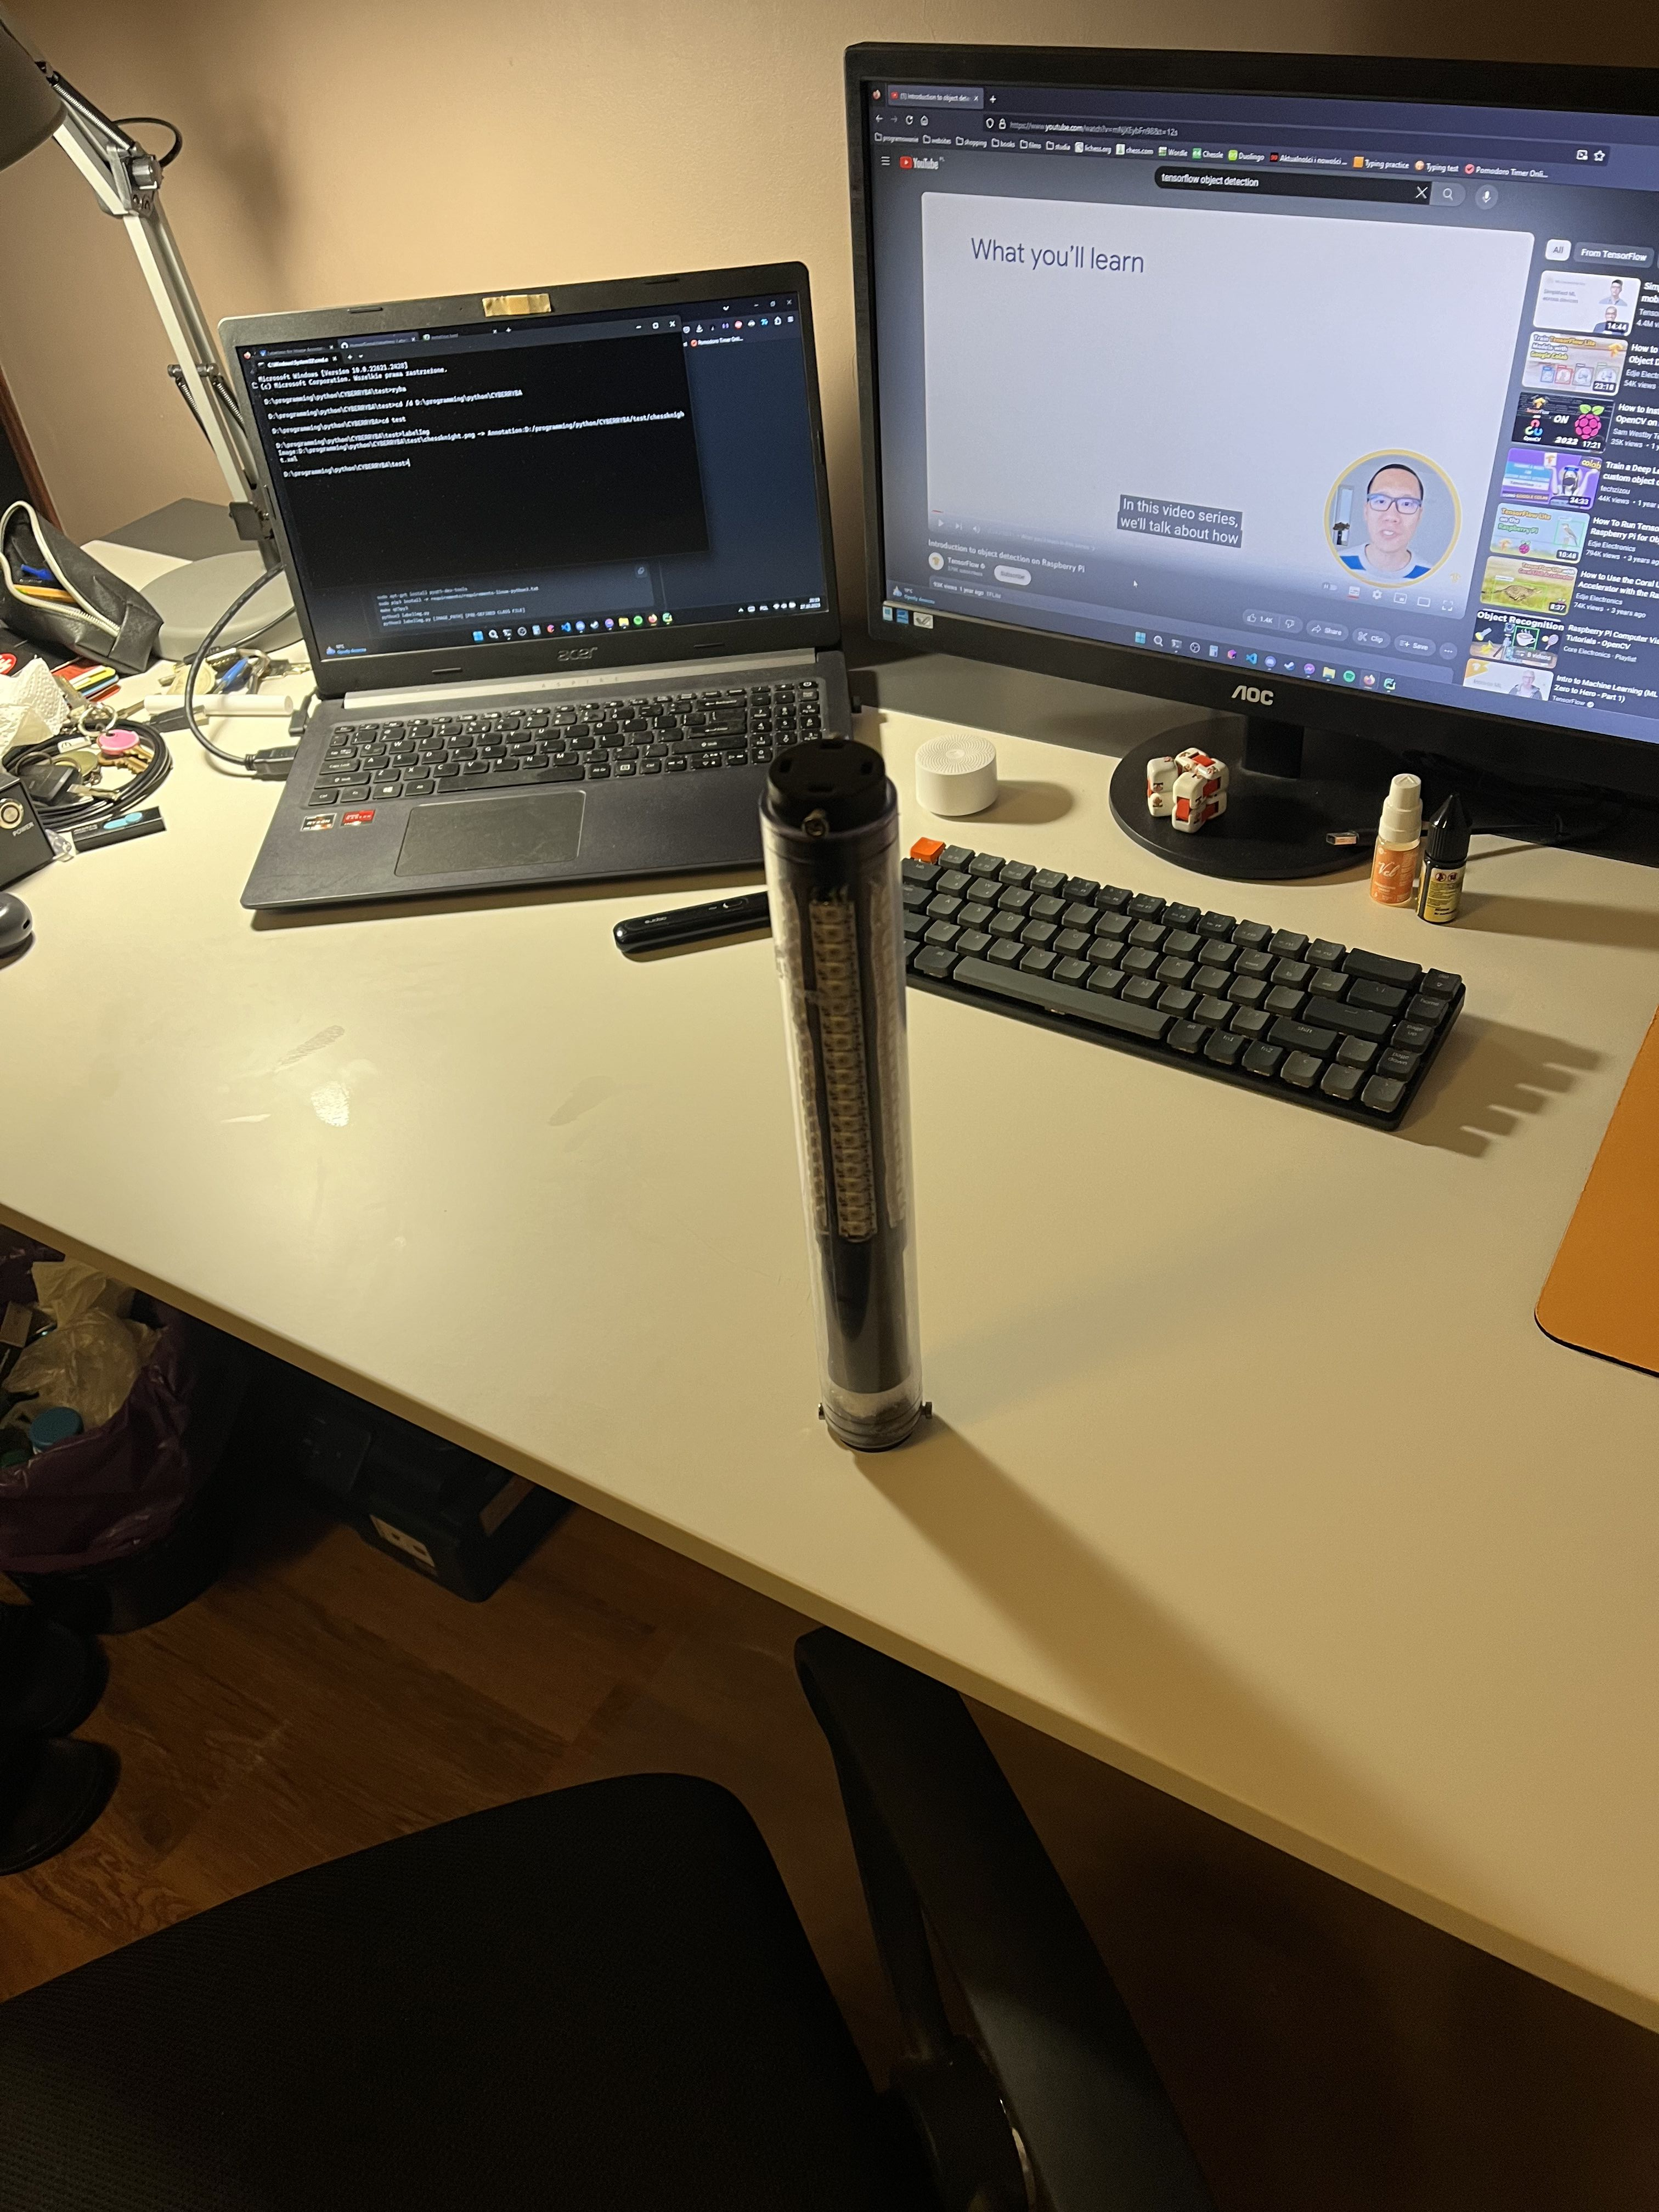black: (760, 810, 946, 1456)
